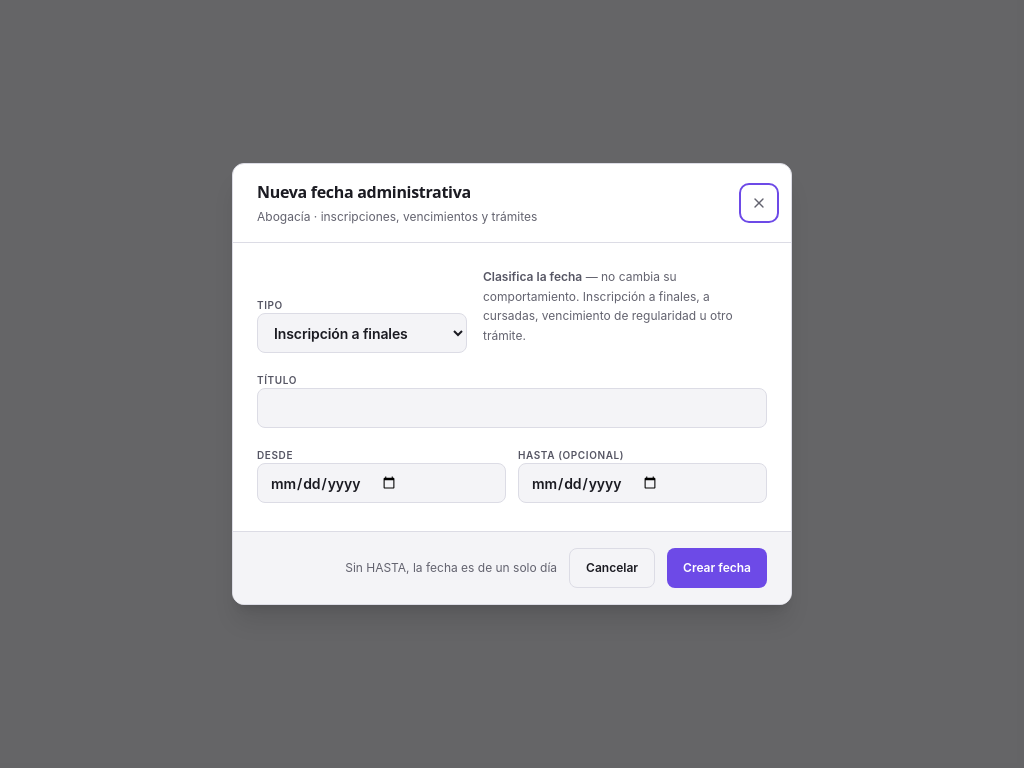
it: NuevaFechaModal (approved design: "Nueva fecha administrativa") › refuses a window that ends before it starts, in the app own words
The width and height of the screenshot is (1024, 768).
Type "Inscripción" into the field labelled "TÍTULO".
click(512, 408); type("Inscripción")  # box [257,388,767,428]
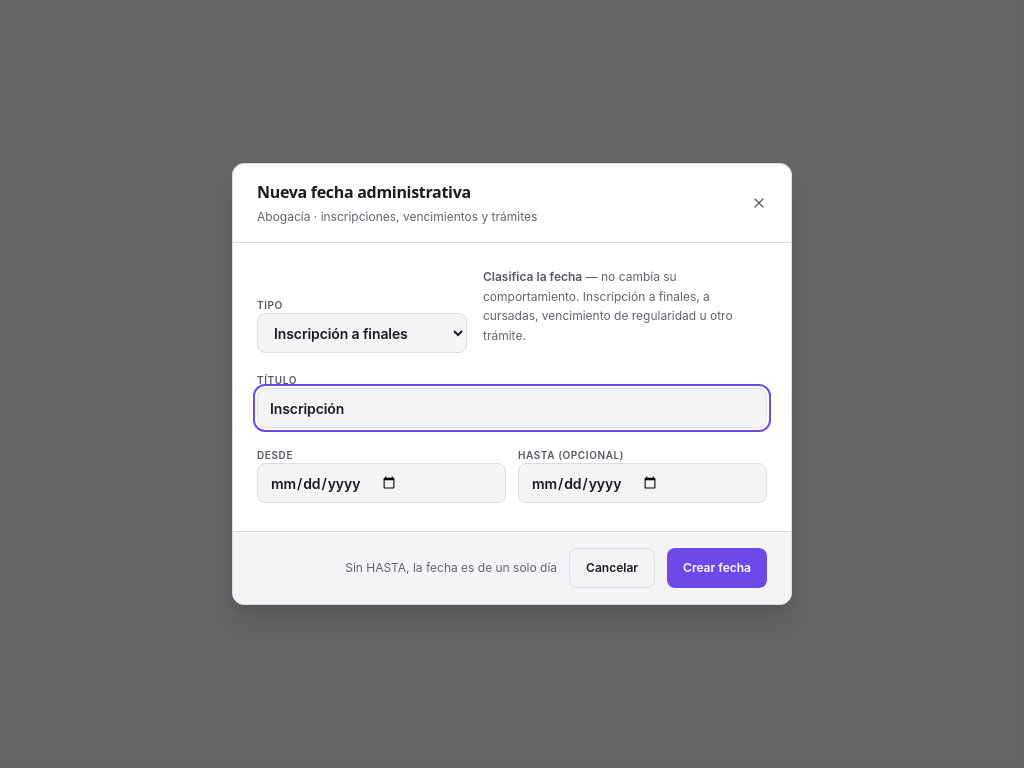
Type "2026-12-05" into the date field labelled "DESDE".
click(382, 483); type("2026-12-05")  # box [257,463,506,503]
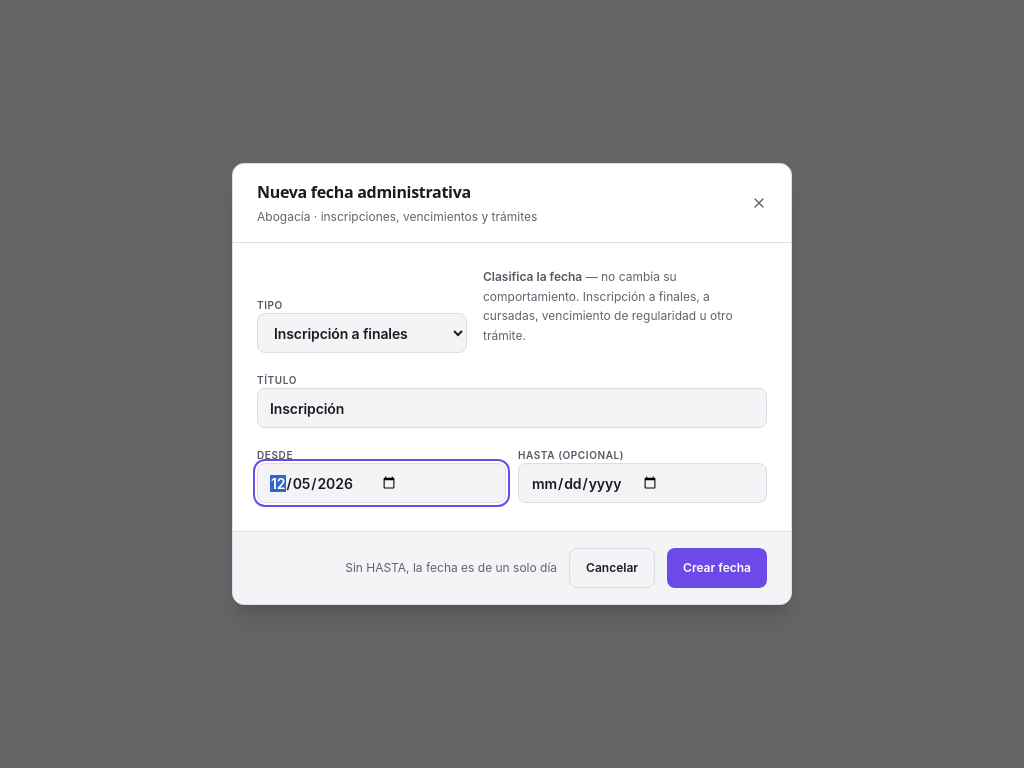
Type "2026-12-01" into the date field labelled "HASTA (OPCIONAL)".
click(642, 483); type("2026-12-01")  # box [518,463,767,503]
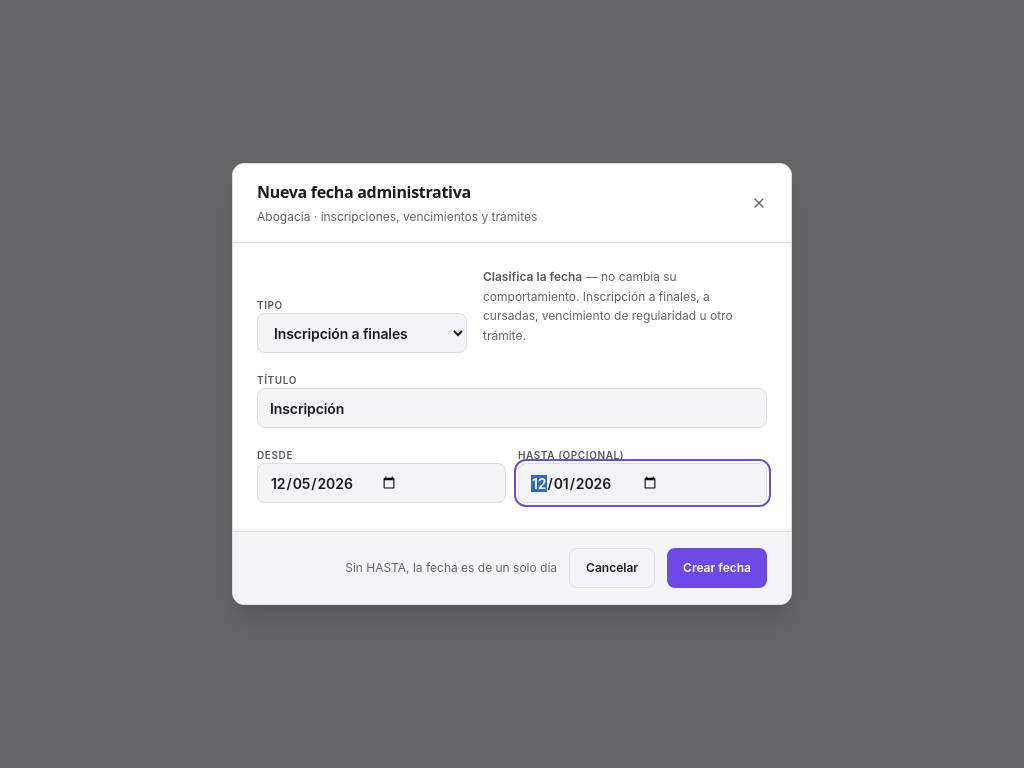
Click the button "Crear fecha".
click(717, 568)  # box [667,548,767,588]
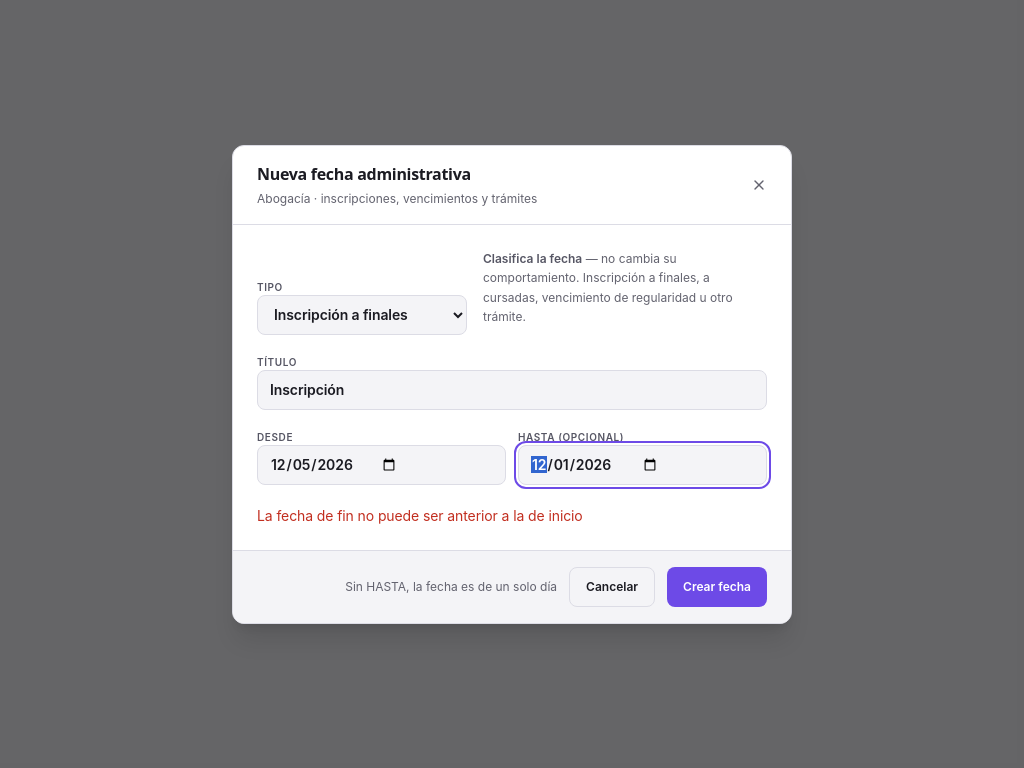
Expected: the text "La fecha de fin no puede ser anterior a la de inicio" is shown, [257,506,583,524]
